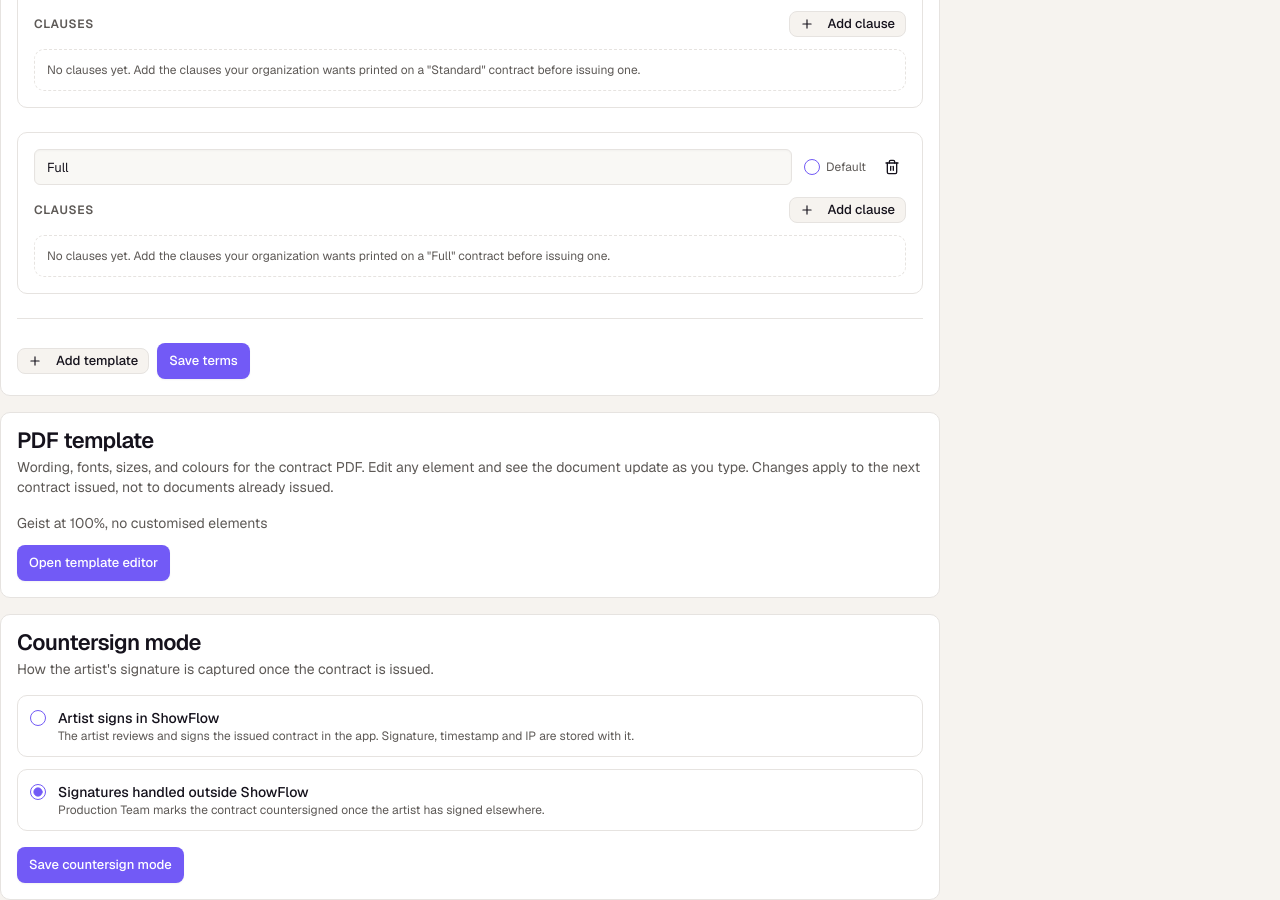
HireOrdersTab › shows the producer-email checkbox only once electronic is selected, and keeps it togglable
The width and height of the screenshot is (1280, 900).
(page scrolled)
Expected: the heading "Countersign mode" is shown, [17,628,201,656]
Expected: the field labelled "also email production team the signed copy" is not shown
Click the radio button named "artist signs in showflow" next to "Artist signs in ShowFlow": (38, 718) [30,710,46,726]
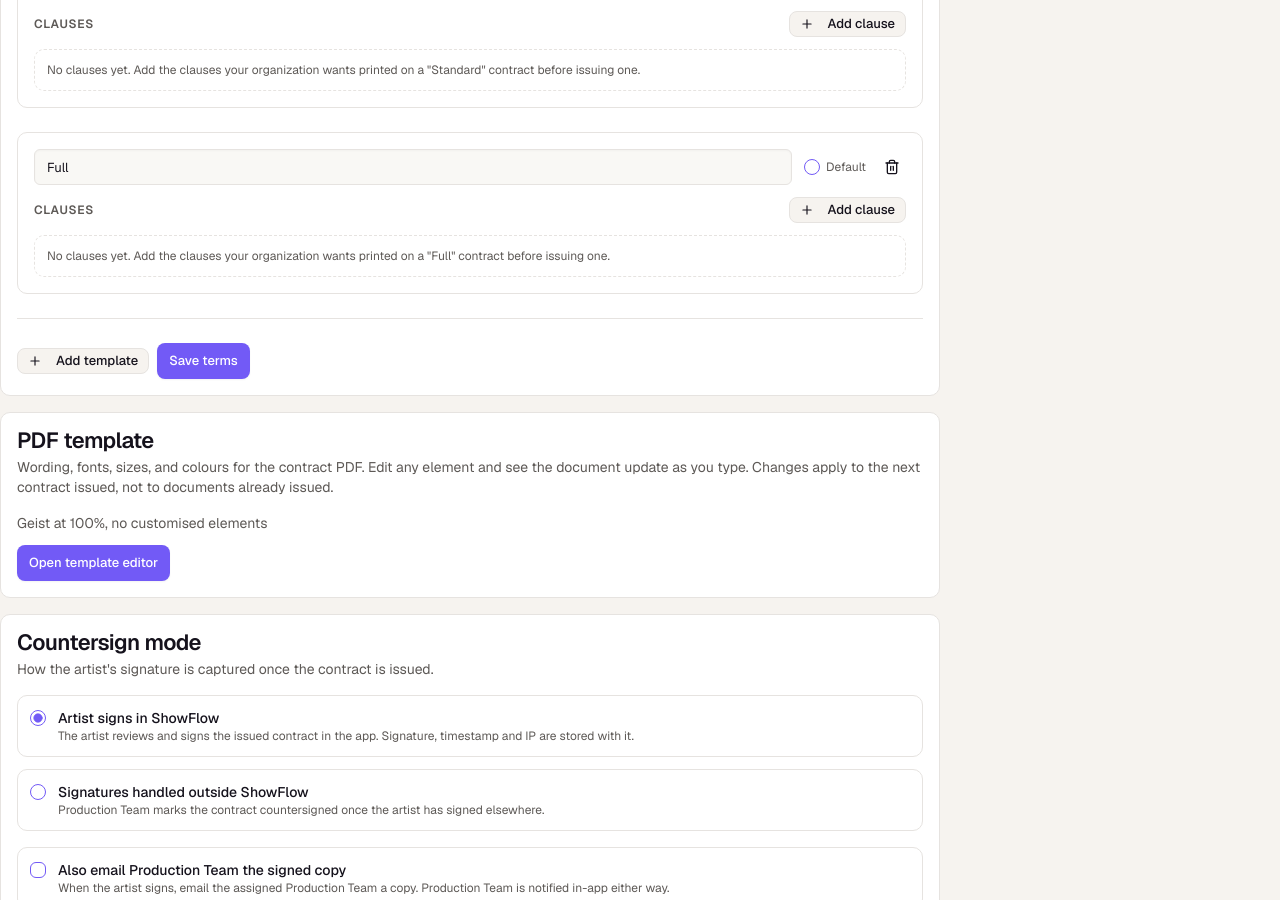
Now the checkbox named "also email production team the signed copy" is shown
Click the checkbox named "also email production team the signed copy": (38, 870) [30,862,46,878]
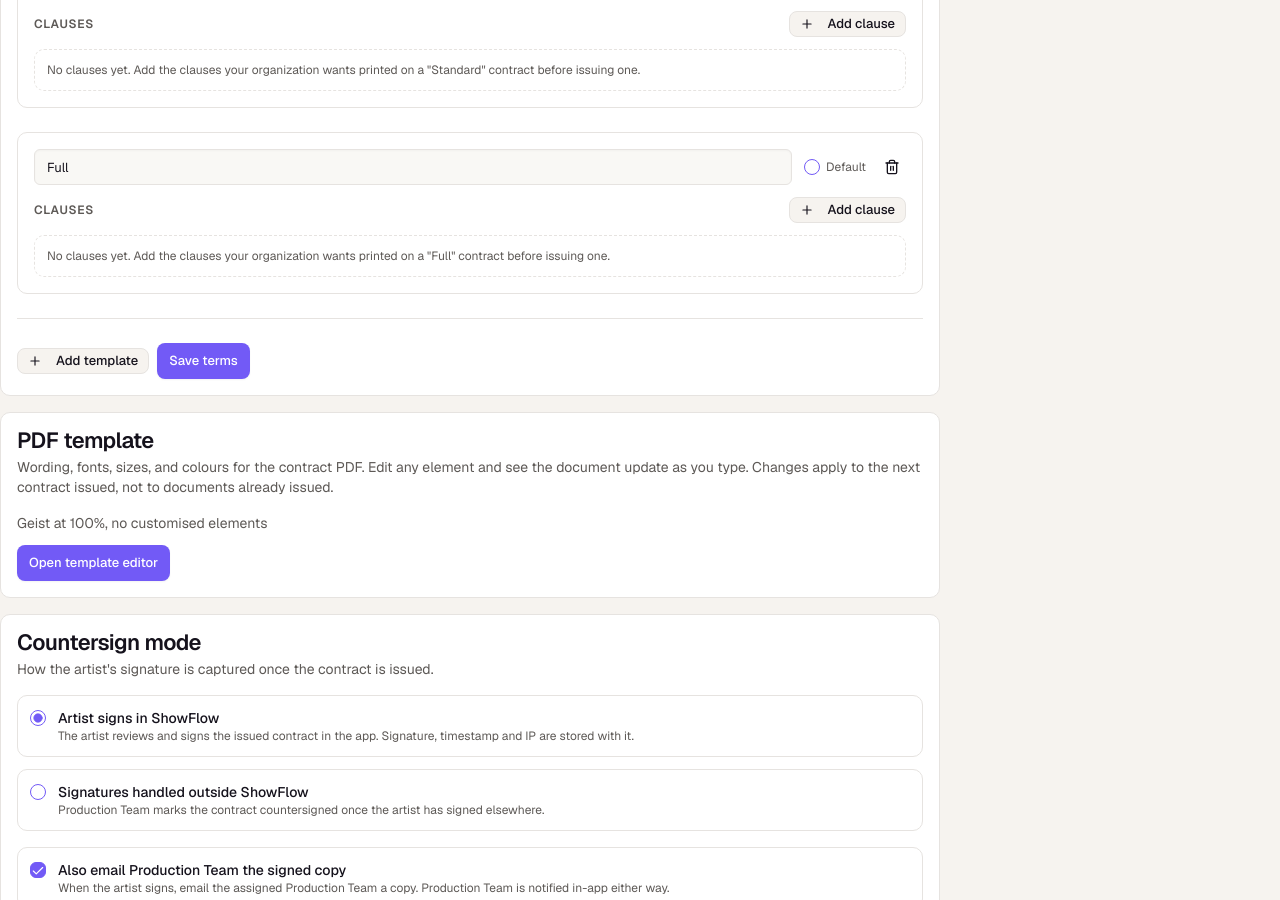
Now the checkbox named "also email production team the signed copy" is checked, box [30,862,46,878]
